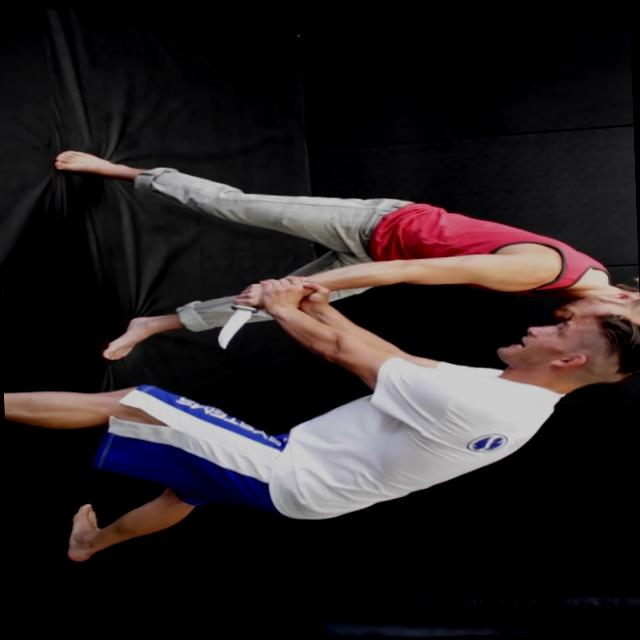knife: (208, 277, 266, 353)
